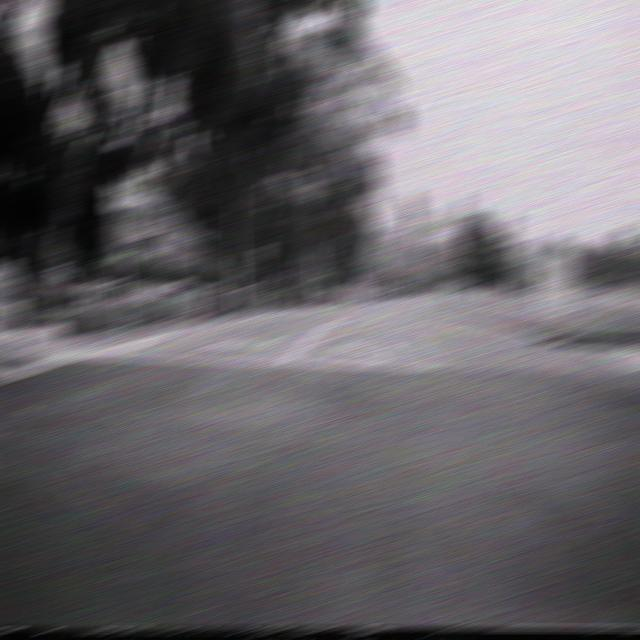speedLimit30: (499, 214, 520, 244)
